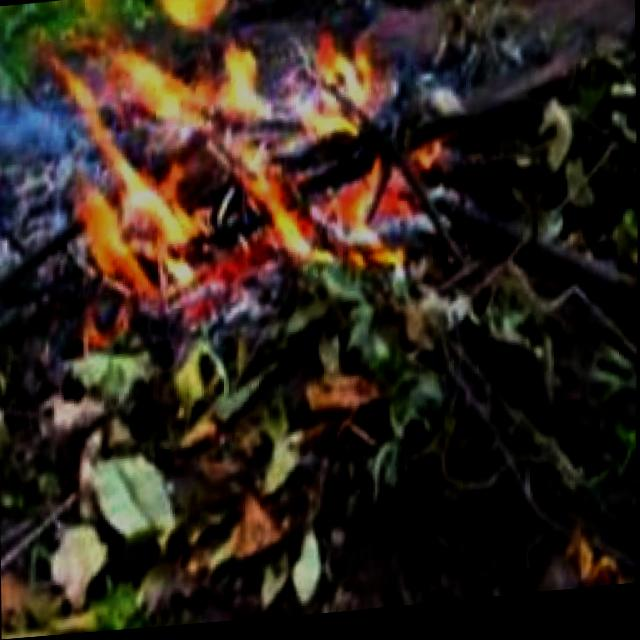Fire: (37, 45, 271, 300), (278, 161, 403, 282), (293, 34, 365, 179)
